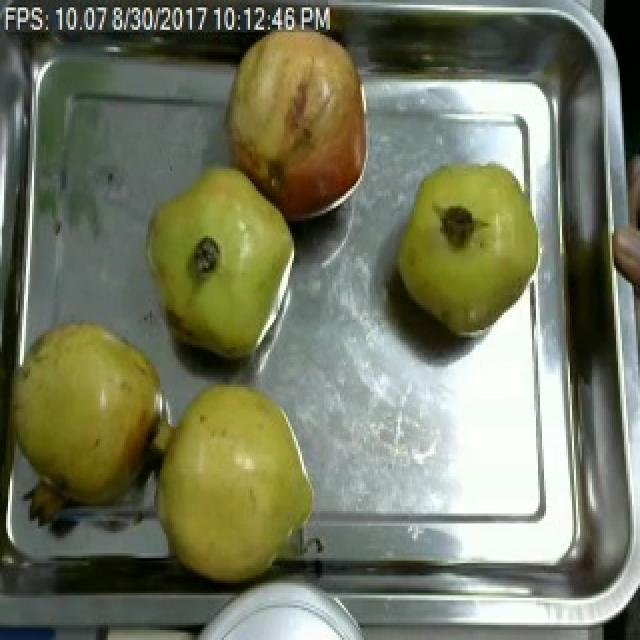fruit: (144, 367, 328, 593), (0, 302, 180, 530), (134, 151, 302, 370), (218, 3, 374, 233), (392, 149, 546, 350)
